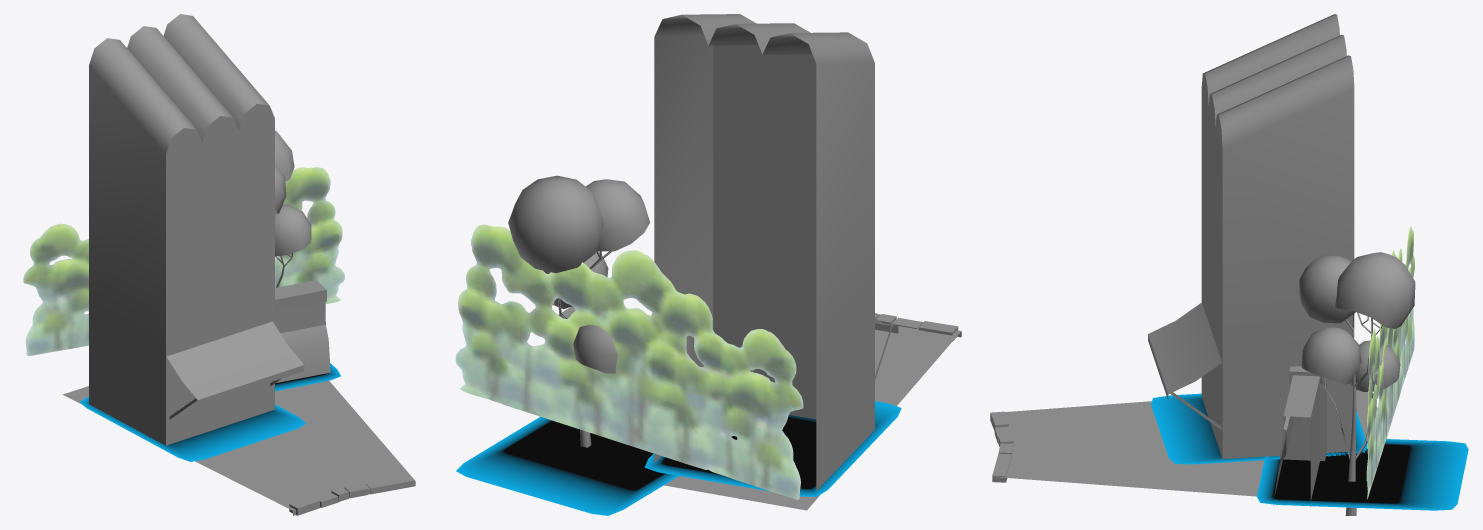
The model's file is CharacterWedge (0).fbx.
The picture shows the model from 3 angles, left to right: view 1: azimuth 30°, elevation 25°; view 2: azimuth 150°, elevation 25°; view 3: azimuth 270°, elevation 25°; orthographic projection. The views are drawn at different scales.
Parts seen in each view (by area): view 1: Building_OldTown_H, Start_Wedge, TreeBillboard (1), Awning_A (1), WallBig (2), Building_Shadow, Tree_B (3), Building_Shadow (1), Sidewalk_Brick_A; view 2: Building_OldTown_H, TreeBillboard (1), Tree_B (3), Building_Shadow (1), Start_Wedge, Building_Shadow; view 3: Building_OldTown_H, Start_Wedge, Tree_B (3), Building_Shadow (1), TreeBillboard (1), Awning_A (1), Building_Shadow, WallBig (2).
Part boxes in pixels (x1=…): Building_OldTown_H: x1=89, y1=14, x2=274, y2=445; Start_Wedge: x1=62, y1=380, x2=415, y2=515; TreeBillboard (1): x1=23, y1=167, x2=344, y2=355; Awning_A (1): x1=166, y1=321, x2=304, y2=419; WallBig (2): x1=275, y1=280, x2=330, y2=383; Building_Shadow: x1=80, y1=396, x2=305, y2=461; Tree_B (3): x1=275, y1=130, x2=311, y2=287; Building_Shadow (1): x1=275, y1=363, x2=340, y2=391; Sidewalk_Brick_A: x1=365, y1=475, x2=414, y2=494; Building_OldTown_H: x1=654, y1=14, x2=874, y2=490; TreeBillboard (1): x1=455, y1=224, x2=803, y2=499; Tree_B (3): x1=508, y1=175, x2=649, y2=447; Building_Shadow (1): x1=456, y1=417, x2=678, y2=515; Start_Wedge: x1=664, y1=317, x2=961, y2=510; Building_Shadow: x1=644, y1=401, x2=901, y2=496; Building_OldTown_H: x1=1201, y1=14, x2=1354, y2=458; Start_Wedge: x1=992, y1=390, x2=1386, y2=496; Tree_B (3): x1=1299, y1=252, x2=1415, y2=515; Building_Shadow (1): x1=1257, y1=439, x2=1468, y2=510; TreeBillboard (1): x1=1366, y1=226, x2=1414, y2=499; Awning_A (1): x1=1148, y1=302, x2=1221, y2=429; Building_Shadow: x1=1151, y1=393, x2=1367, y2=464; WallBig (2): x1=1274, y1=366, x2=1326, y2=506.
Bounding box in the file's own units: 12.97 × 15.31 × 15.87.
